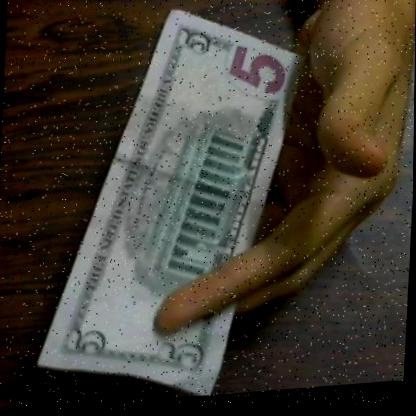five-back: (34, 0, 361, 415)
